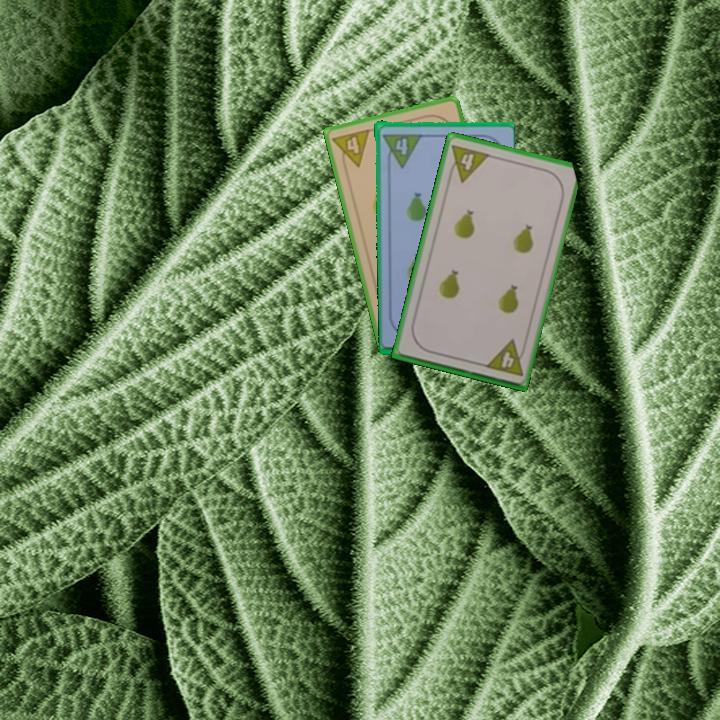4p: (444, 140, 492, 185), (329, 125, 373, 173), (481, 336, 529, 379), (379, 130, 423, 169)
